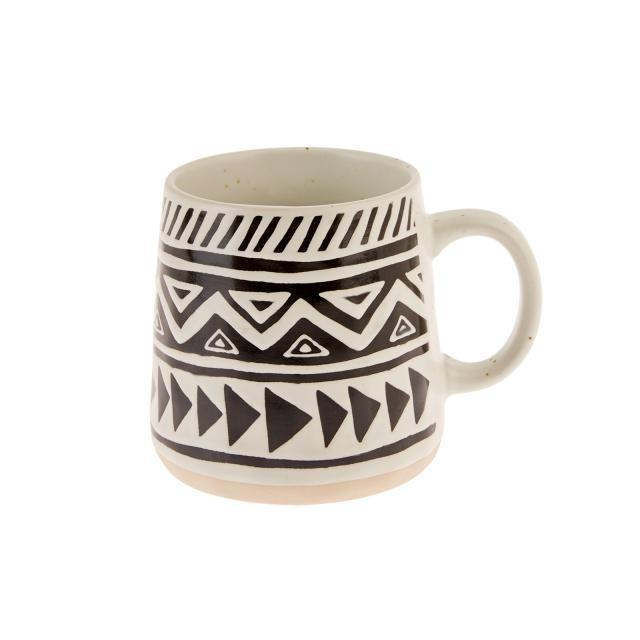Coffee Mug: (148, 145, 546, 510)
